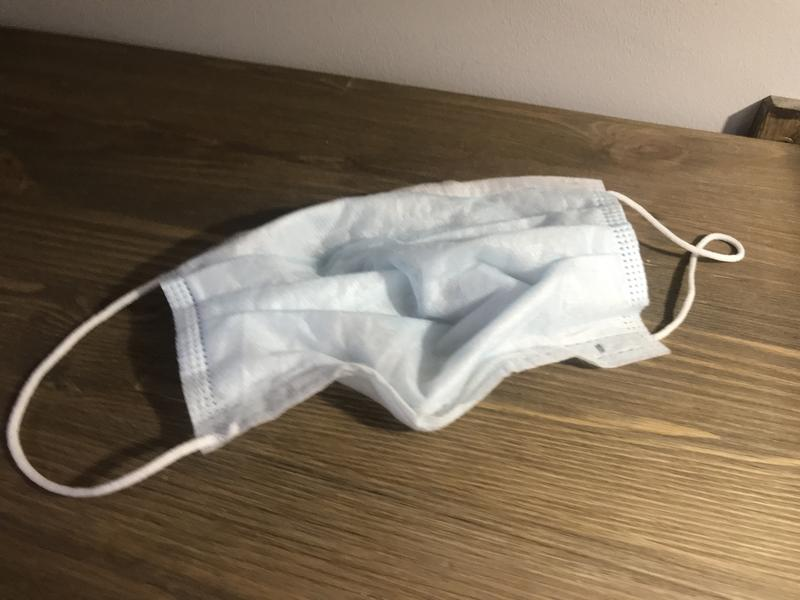medical_mask: (5, 176, 745, 498)
